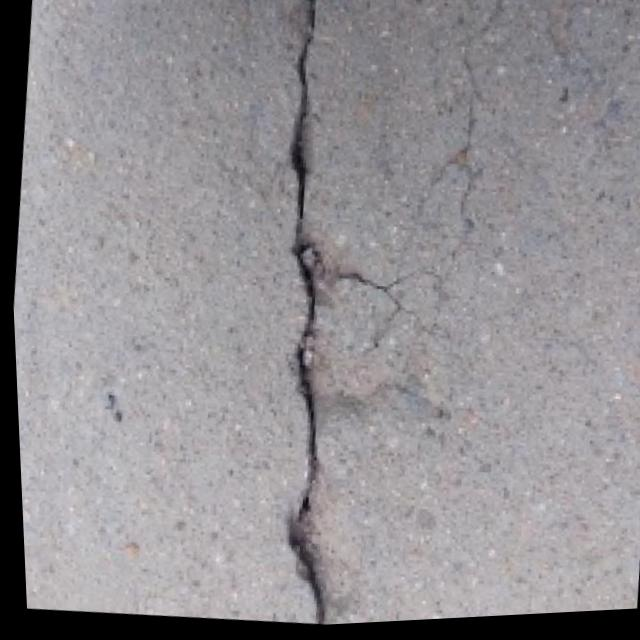Crack: (209, 0, 433, 631)
